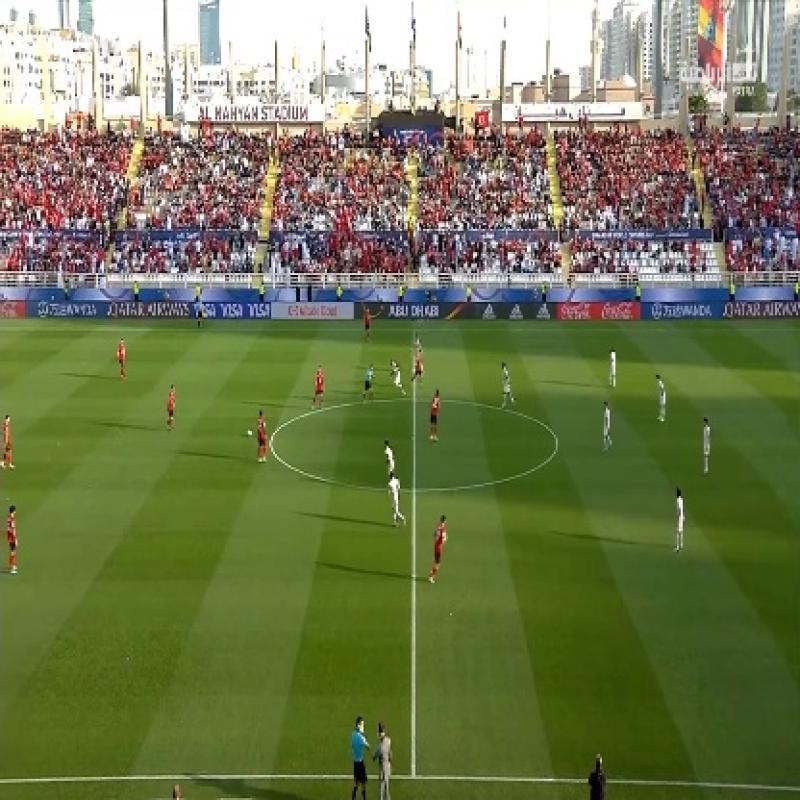11: (404, 562, 423, 590)
13: (406, 324, 421, 340)
14: (402, 386, 423, 410)
15: (404, 473, 423, 502)
16: (398, 756, 427, 788)
c: (263, 431, 278, 455), (550, 431, 566, 453)
